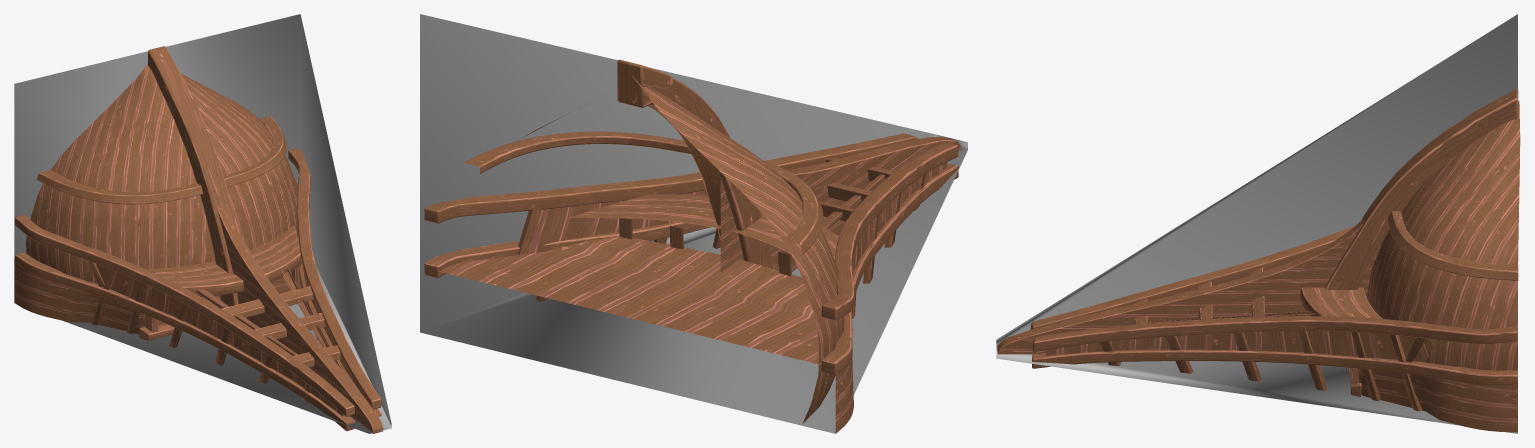
Rendered from SM_Building_ShipPart_03A.gltf.
3 renders of one model, left to right at view 1: azimuth 30°, elevation 25°; view 2: azimuth 150°, elevation 25°; view 3: azimuth 270°, elevation 25°, orthographic. The views are drawn at different scales.
Visible parts, largest first — view 1: SM_Building_ShipPart_03A_LOD0, SM_Building_ShipPart_03A_ConvexHulls; view 2: SM_Building_ShipPart_03A_ConvexHulls, SM_Building_ShipPart_03A_LOD0; view 3: SM_Building_ShipPart_03A_LOD0, SM_Building_ShipPart_03A_ConvexHulls.
Part boxes in pixels (x1,y1,x2,y2): SM_Building_ShipPart_03A_LOD0: (14, 46, 383, 433); SM_Building_ShipPart_03A_ConvexHulls: (14, 14, 391, 433); SM_Building_ShipPart_03A_ConvexHulls: (420, 14, 967, 433); SM_Building_ShipPart_03A_LOD0: (424, 59, 960, 433); SM_Building_ShipPart_03A_LOD0: (997, 89, 1520, 432); SM_Building_ShipPart_03A_ConvexHulls: (996, 14, 1517, 433).
Size of what is drawn, in the model's own units: 6.07 by 4.6 by 8.23.
Materials: 2 (1 with a texture image).
